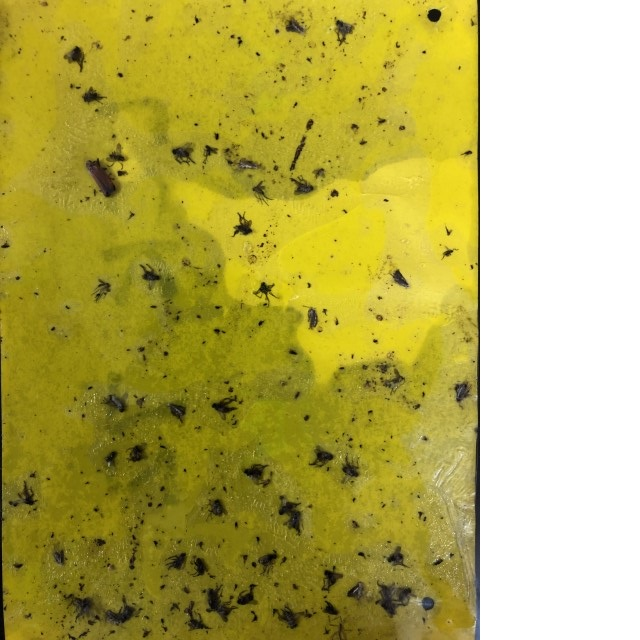DBM: (451, 379, 471, 410), (232, 156, 265, 174), (282, 13, 307, 36), (165, 398, 187, 423), (300, 302, 320, 329), (346, 578, 364, 603)
